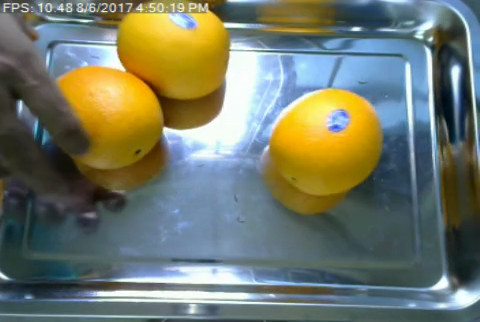Orange: (270, 85, 382, 195), (114, 11, 228, 99)
